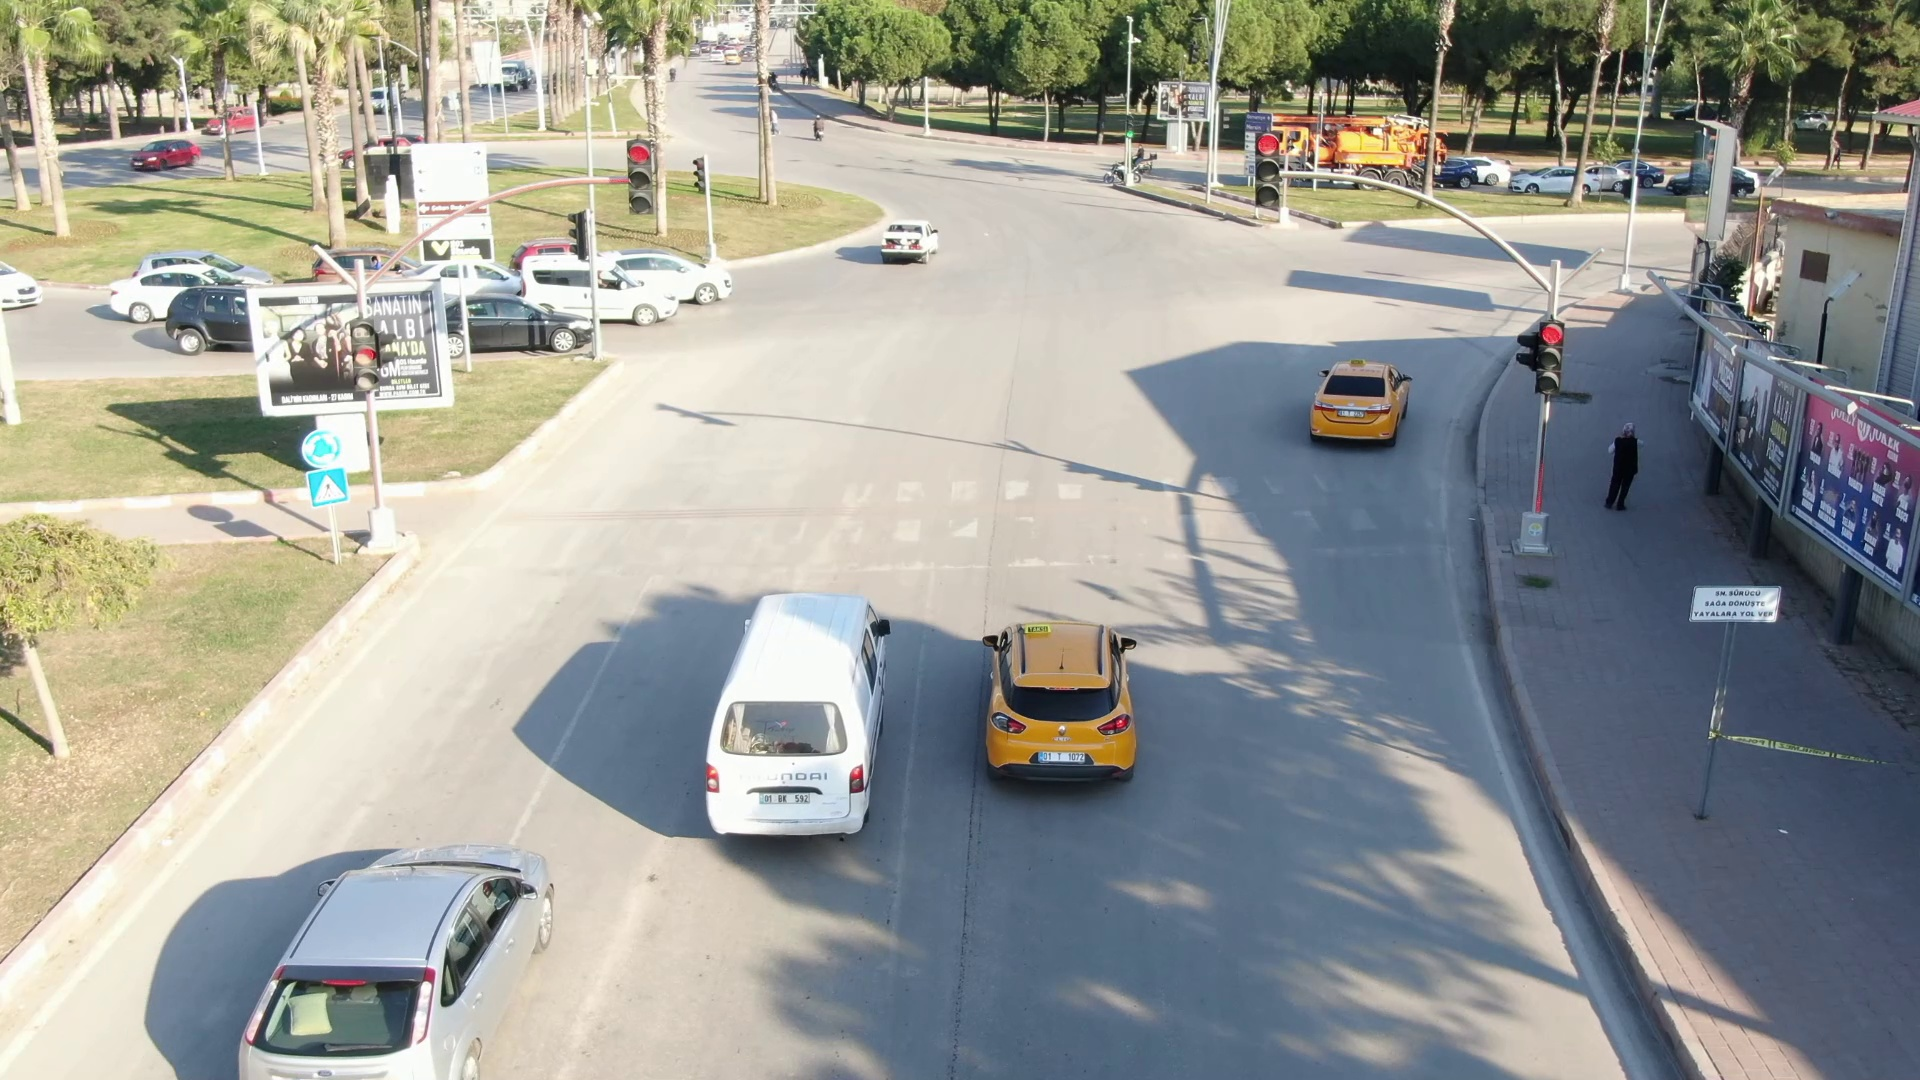car: (231, 839, 578, 1080), (704, 588, 890, 845), (982, 617, 1141, 784), (510, 247, 678, 329), (1310, 363, 1427, 447), (600, 249, 751, 310), (106, 270, 288, 317), (165, 290, 278, 349), (880, 215, 943, 263)
person: (1606, 423, 1641, 514)
